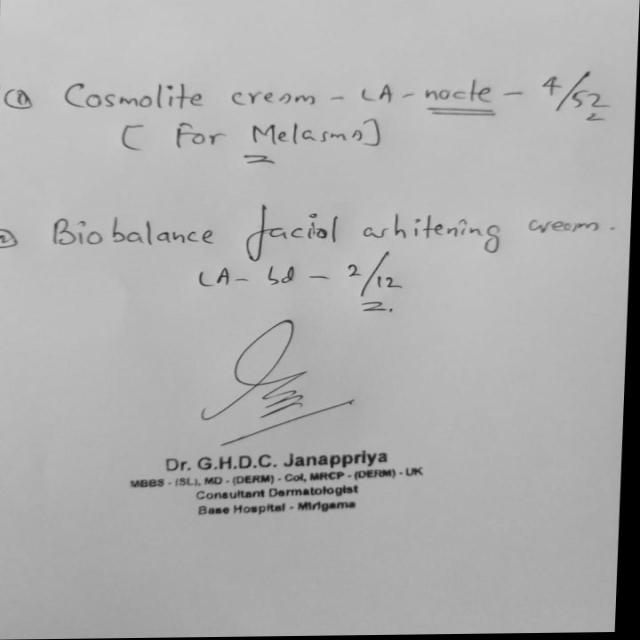Prescription: (54, 202, 604, 294), (64, 71, 615, 117)
